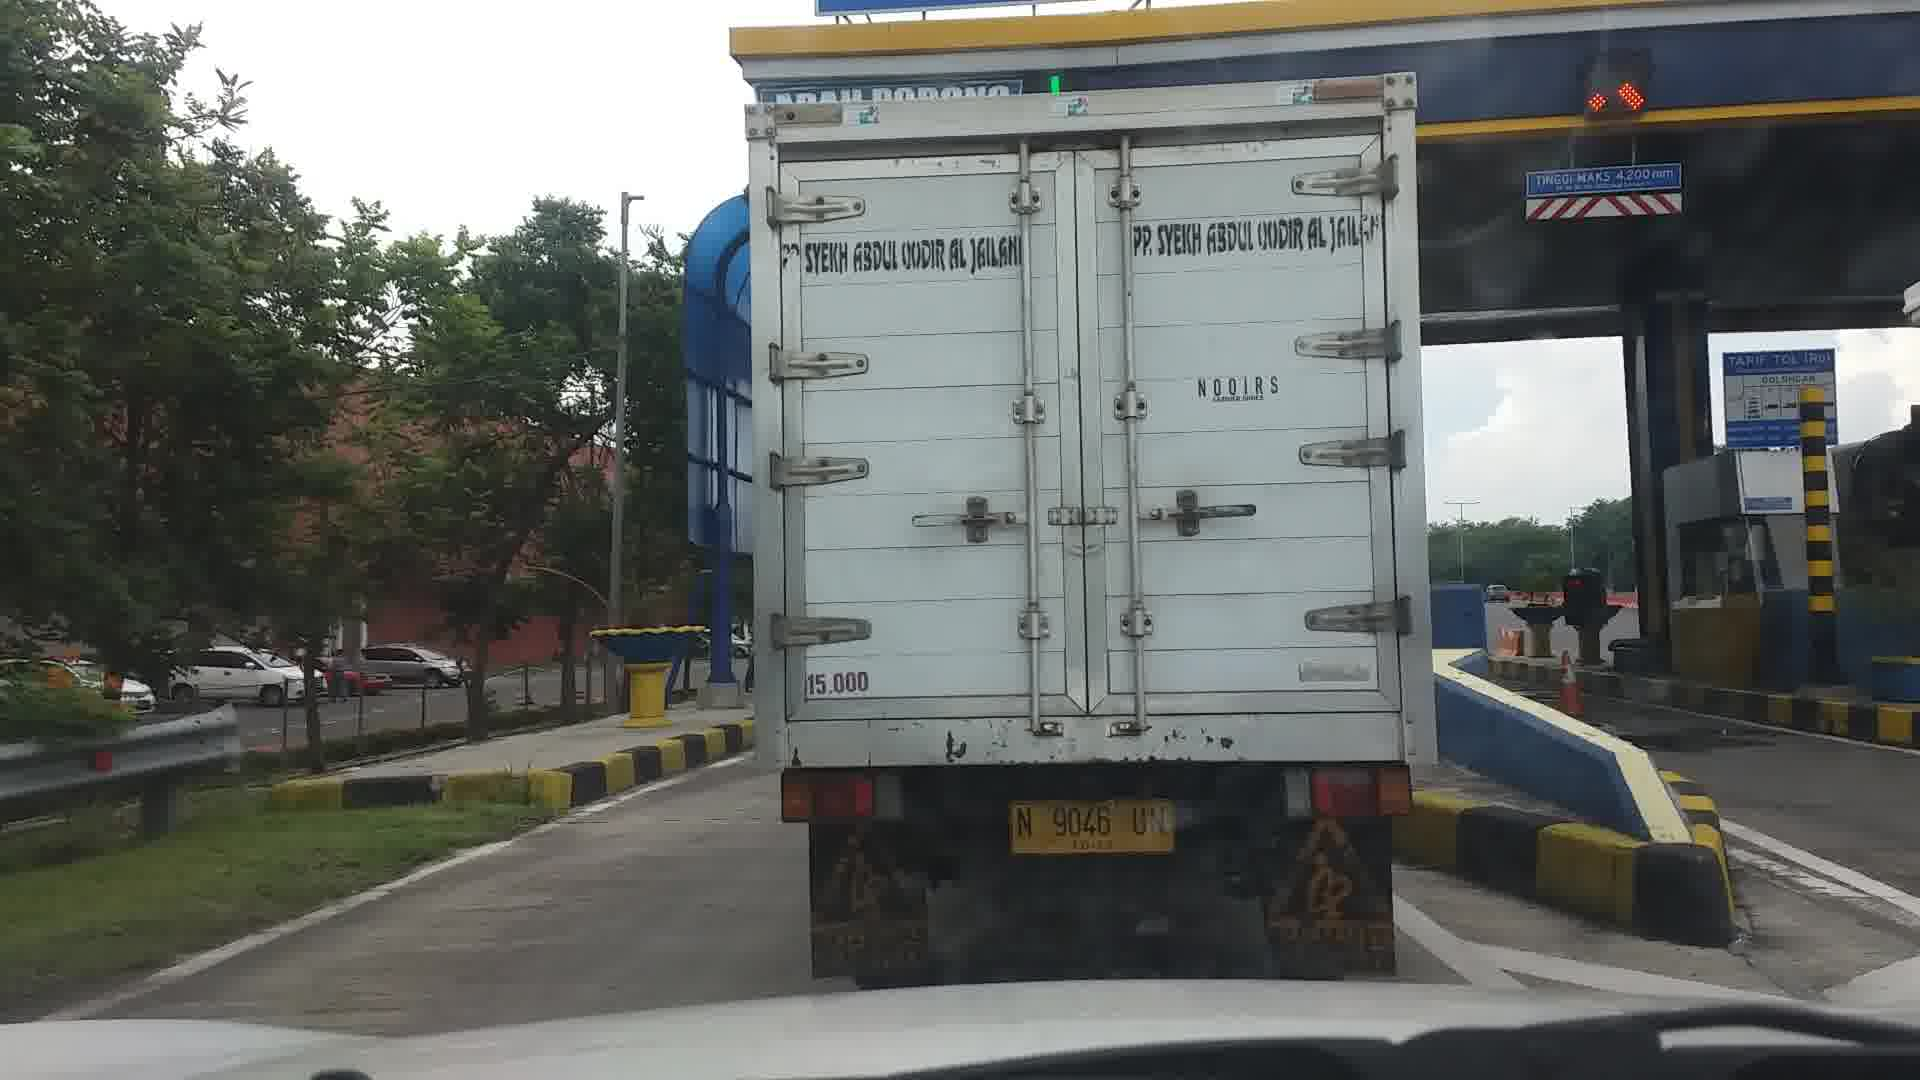plate_positive: (1007, 800, 1175, 853)
